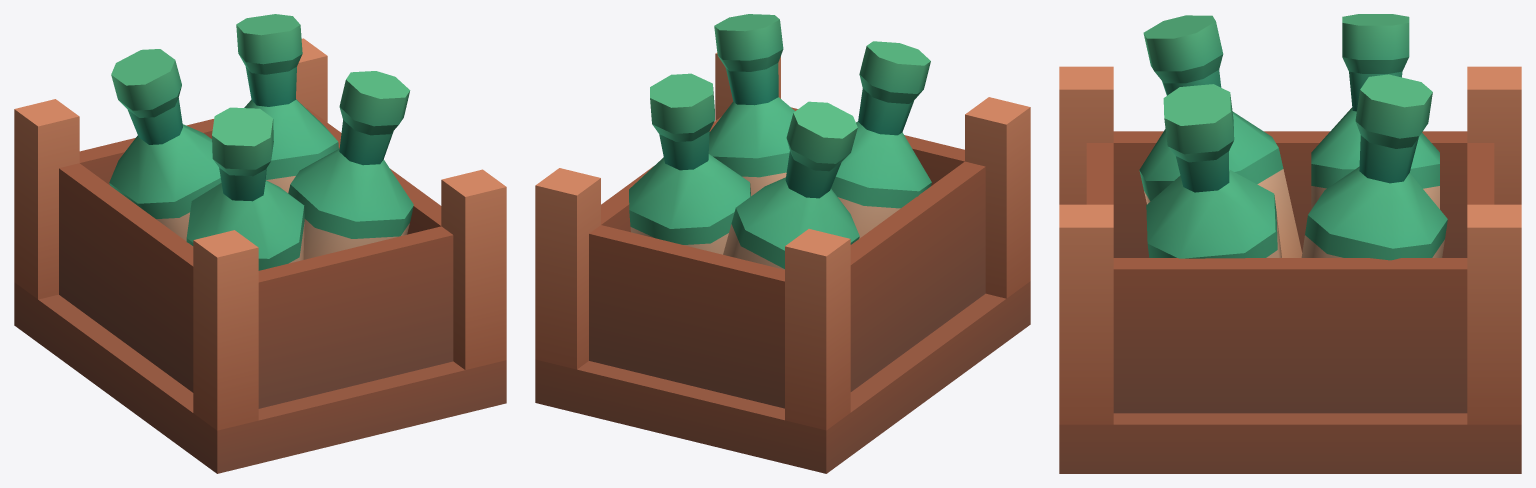
Rendered from crate_2.fbx.
The picture shows the model from 3 angles, left to right: view 1: azimuth 30°, elevation 25°; view 2: azimuth 150°, elevation 25°; view 3: azimuth 270°, elevation 25°; orthographic projection. The views are drawn at different scales.
Parts seen in each view (by area): view 1: crate_2; view 2: crate_2; view 3: crate_2.
Boxes of the visible parts, x1,y1,x2,y2 form: crate_2: (14, 14, 506, 473); crate_2: (535, 14, 1030, 473); crate_2: (1059, 14, 1521, 473).
Bounding box in the file's own units: 1.08 × 1.06 × 1.31.
Materials: 1 (1 with a texture image).
